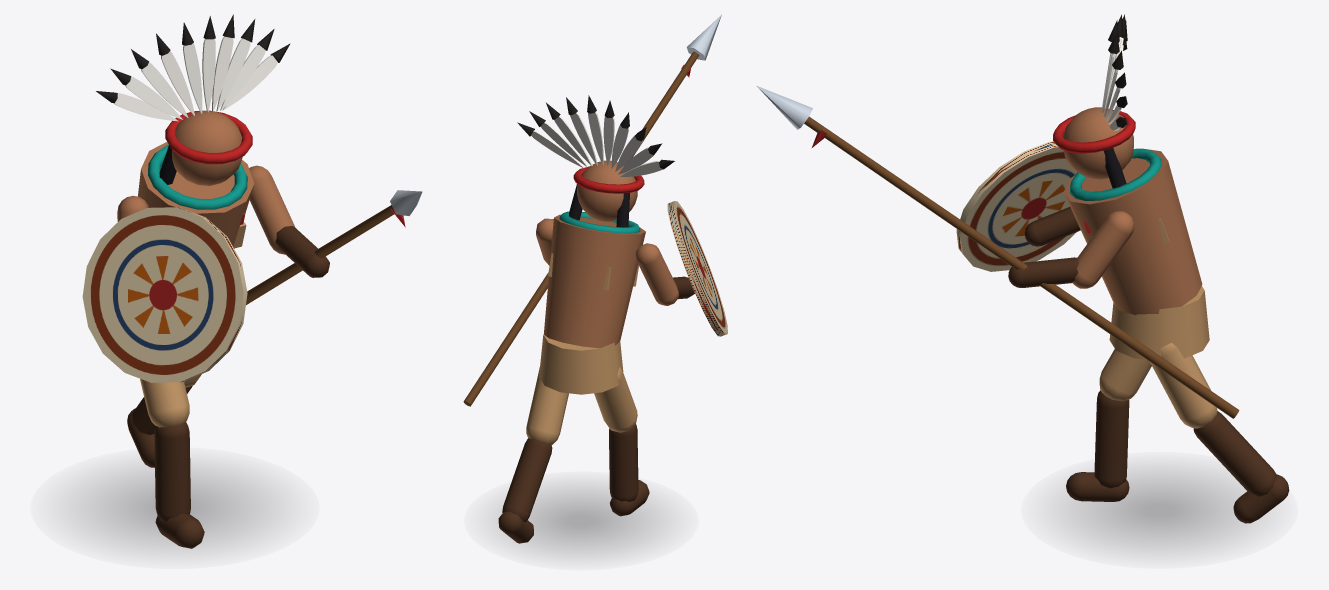
Rendered from spear-indian-warrior-character.glb.
The picture shows the model from 3 angles, left to right: view 1: azimuth 30°, elevation 25°; view 2: azimuth 150°, elevation 25°; view 3: azimuth 270°, elevation 25°; orthographic projection. The views are drawn at different scales.
Visible parts, largest first — view 1: Spear_Indian_Warrior_Single, object 22, object 14, object 12, object 16, object 10, object 8, object 18, object 6, object 4, object 2, object 20 (+1 smaller); view 2: Spear_Indian_Warrior_Single, object 22, object 23, object 14, object 18, object 12, object 16, object 20, object 10, object 8, object 6, object 2; view 3: Spear_Indian_Warrior_Single, object 22, object 23.
Boxes of the visible parts, left/top/right/bottom form: Spear_Indian_Warrior_Single: left=80, top=110, right=329, bottom=548; object 22: left=246, top=205, right=393, bottom=304; object 14: left=212, top=36, right=233, bottom=111; object 12: left=202, top=39, right=215, bottom=112; object 16: left=216, top=38, right=250, bottom=111; object 10: left=183, top=43, right=202, bottom=113; object 8: left=161, top=51, right=194, bottom=115; object 18: left=220, top=45, right=265, bottom=110; object 6: left=141, top=62, right=188, bottom=117; object 4: left=125, top=77, right=182, bottom=119; object 2: left=114, top=93, right=178, bottom=121; object 20: left=222, top=55, right=277, bottom=110; Spear_Indian_Warrior_Single: left=498, top=160, right=727, bottom=552; object 22: left=463, top=51, right=699, bottom=406; object 23: left=686, top=14, right=721, bottom=60; object 14: left=570, top=112, right=597, bottom=165; object 18: left=541, top=122, right=587, bottom=166; object 12: left=588, top=112, right=603, bottom=164; object 16: left=554, top=116, right=592, bottom=165; object 20: left=531, top=130, right=584, bottom=167; object 10: left=603, top=116, right=614, bottom=165; object 8: left=611, top=125, right=628, bottom=168; object 6: left=615, top=135, right=642, bottom=171; object 2: left=620, top=161, right=662, bottom=176; Spear_Indian_Warrior_Single: left=956, top=107, right=1289, bottom=548; object 22: left=804, top=116, right=1239, bottom=418; object 23: left=756, top=85, right=812, bottom=129.
Bounding box in the file's own units: 1.24 × 2.15 × 2.23.
Materials: 12 (2 with a texture image).
